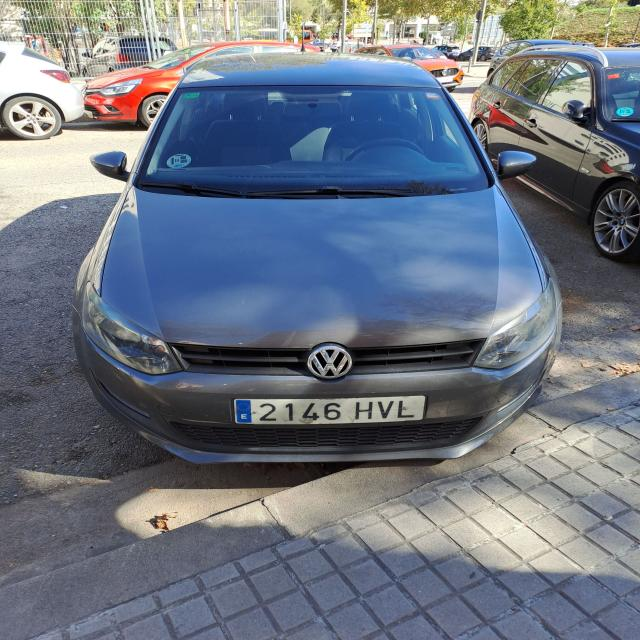license_plate-34Td: (234, 396, 426, 425)
